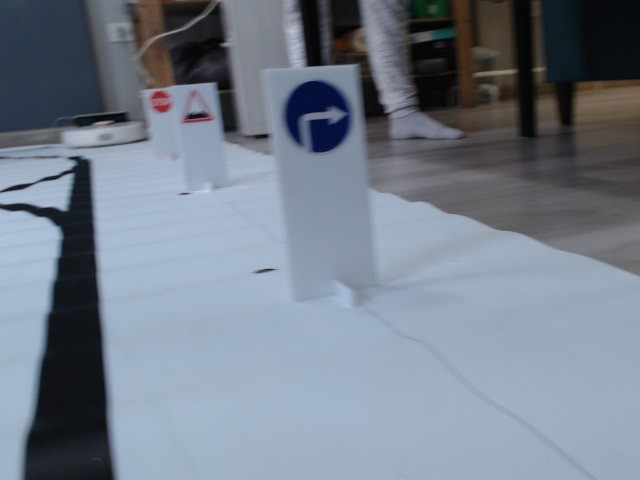Nerov: (182, 89, 215, 123)
Right: (280, 79, 354, 156)
